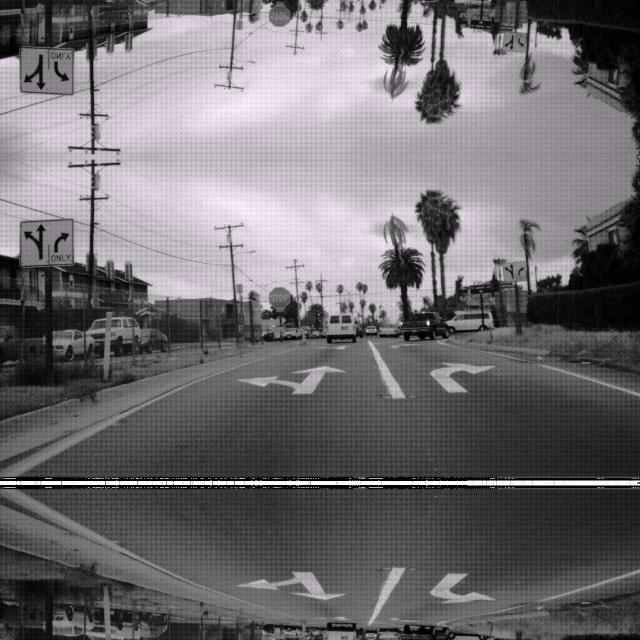stop: (268, 284, 290, 308), (268, 5, 290, 28)
